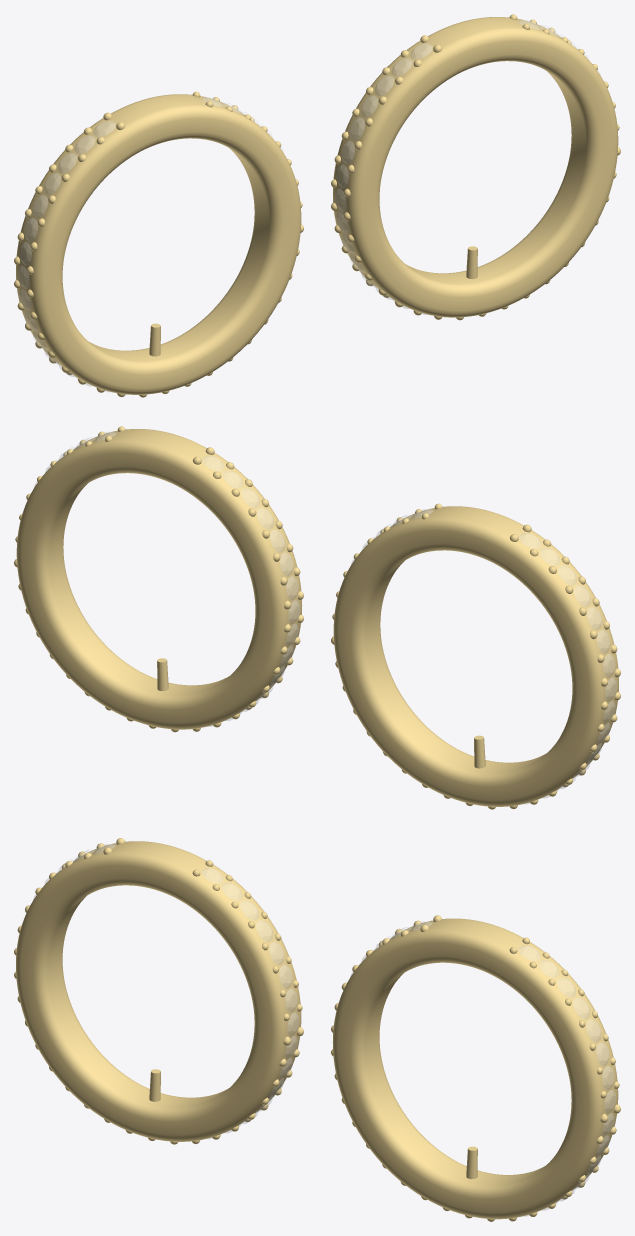
File: pave_hoops.glb
The picture shows the model from 3 angles, top to bottom: view 1: azimuth 30°, elevation 25°; view 2: azimuth 150°, elevation 25°; view 3: azimuth 330°, elevation 25°; orthographic projection.
Visible parts, largest first — view 1: pave_hoops; view 2: pave_hoops; view 3: pave_hoops.
Part boxes in pixels (<box>): pave_hoops: <box>14,14,620,397</box>; pave_hoops: <box>14,426,620,809</box>; pave_hoops: <box>14,838,620,1221</box>.
Size of the model in its own units: 2.99 by 1.38 by 0.21.
